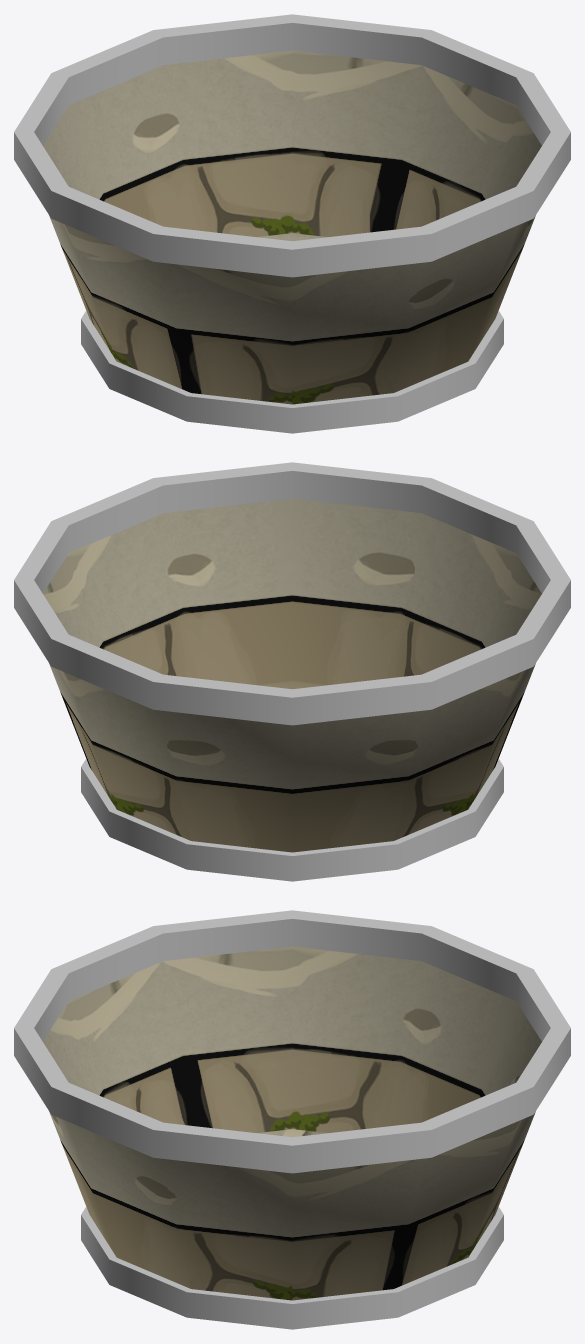
File: Bucket.FBX
3 renders of one model, top to bottom at view 1: azimuth 30°, elevation 25°; view 2: azimuth 150°, elevation 25°; view 3: azimuth 270°, elevation 25°, orthographic.
Visible parts, largest first — view 1: Bucket; view 2: Bucket; view 3: Bucket.
Boxes of the visible parts, left/top/right/bottom form: Bucket: left=14, top=14, right=570, bottom=433; Bucket: left=14, top=462, right=570, bottom=881; Bucket: left=14, top=910, right=570, bottom=1329.
Bounding box in the file's own units: 1.05 × 0.4397 × 1.05.
